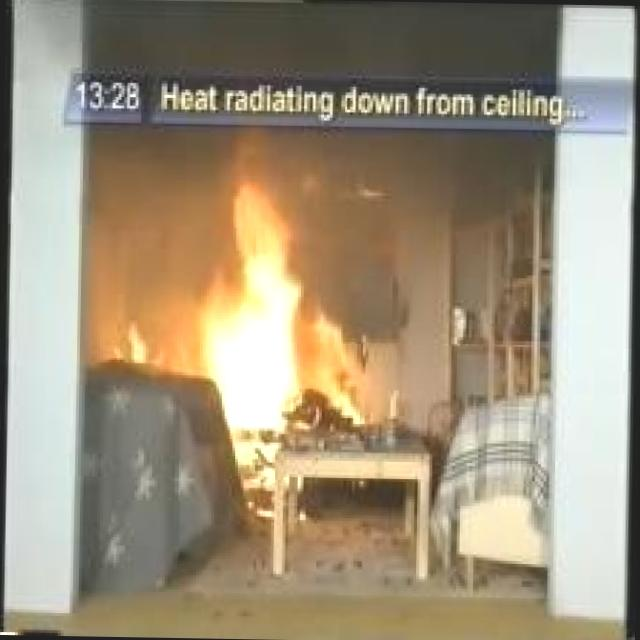fire: (170, 189, 333, 438)
smoke: (90, 1, 560, 82)
